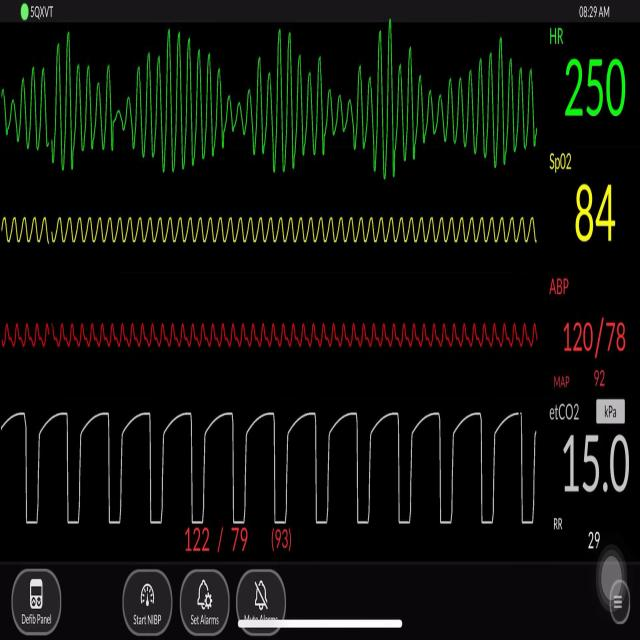danger: (238, 24, 336, 188), (132, 27, 224, 191), (352, 18, 435, 187), (446, 41, 539, 191), (15, 45, 120, 164)
